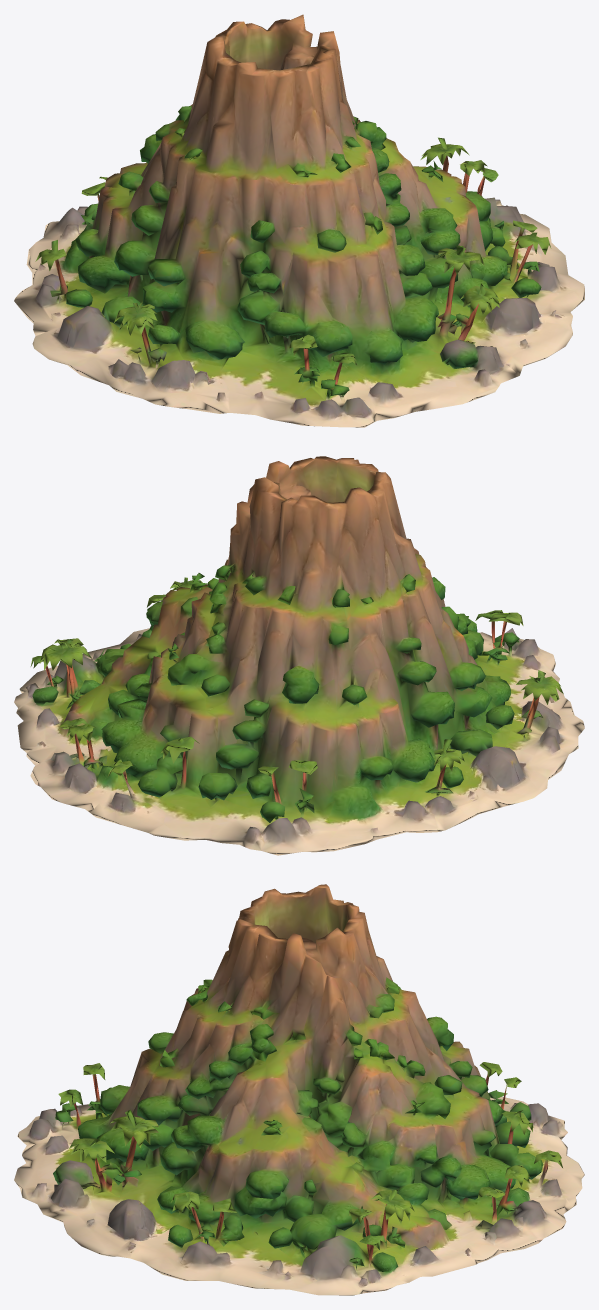
File: vista-volcano.glb
3 views of the same model, one above another, from view 1: azimuth 30°, elevation 25°; view 2: azimuth 150°, elevation 25°; view 3: azimuth 270°, elevation 25° (orthographic). The views are drawn at different scales.
Visible parts, largest first — view 1: tripo_node_b444abfe-acaf-453b-87c2-3c93c4f19d26; view 2: tripo_node_b444abfe-acaf-453b-87c2-3c93c4f19d26; view 3: tripo_node_b444abfe-acaf-453b-87c2-3c93c4f19d26.
Part boxes in pixels (left/top/right/bottom): tripo_node_b444abfe-acaf-453b-87c2-3c93c4f19d26: left=14, top=14, right=584, bottom=427; tripo_node_b444abfe-acaf-453b-87c2-3c93c4f19d26: left=14, top=456, right=584, bottom=855; tripo_node_b444abfe-acaf-453b-87c2-3c93c4f19d26: left=14, top=884, right=584, bottom=1295.
Size of the model in its own units: 0.9855 by 0.5067 by 0.9994.
Materials: 1 (1 with a texture image).
